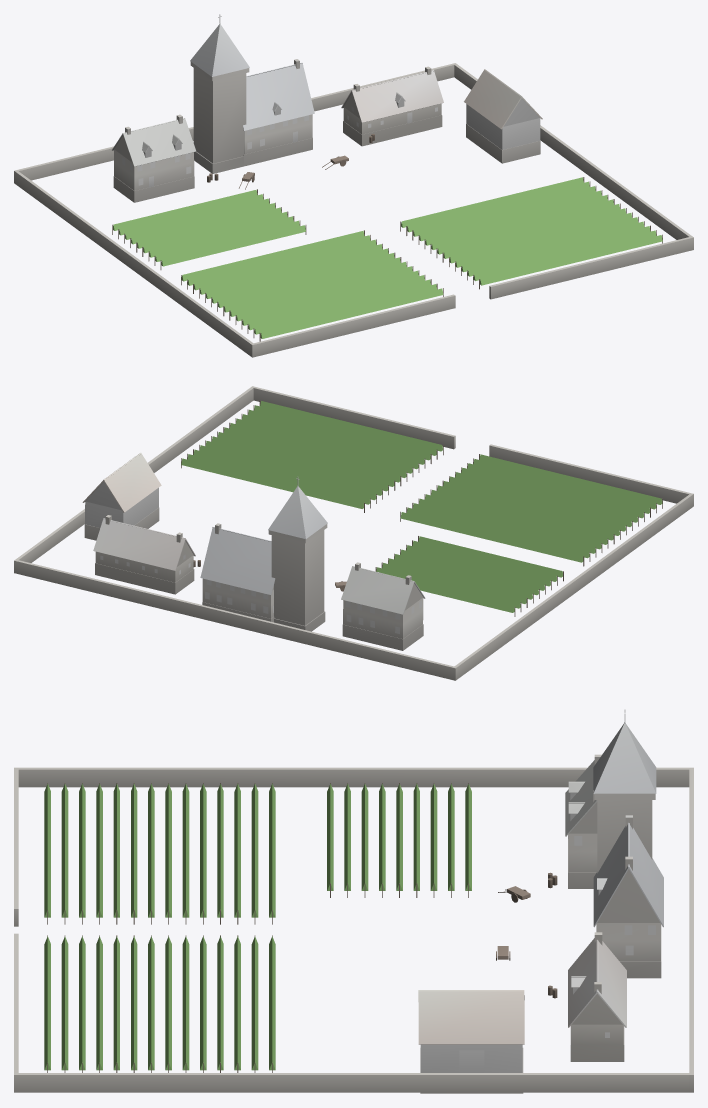
File: vineyard_3.glb
3 views of the same model, one above another, from view 1: azimuth 30°, elevation 25°; view 2: azimuth 150°, elevation 25°; view 3: azimuth 270°, elevation 25° (orthographic). The views are drawn at different scales.
Visible parts, largest first — view 1: vineyard_3; view 2: vineyard_3; view 3: vineyard_3.
Boxes of the visible parts, <box> form: vineyard_3: <box>14,14,693,357</box>; vineyard_3: <box>14,386,693,680</box>; vineyard_3: <box>14,709,693,1093</box>.
Bounding box in the file's own units: 92.6 × 29.68 × 86.6.
